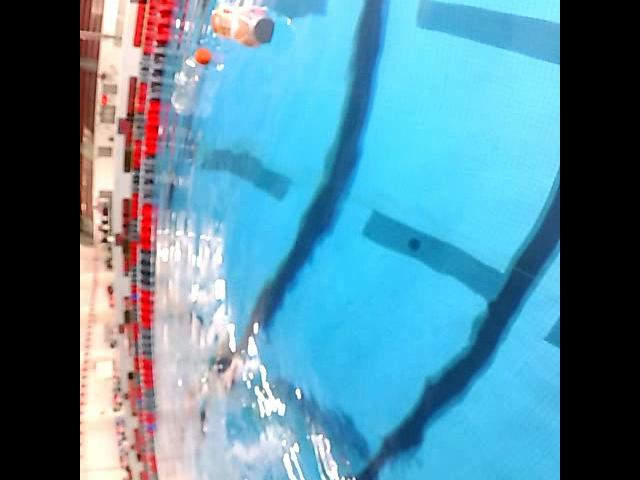Bottle: (164, 44, 220, 118), (205, 0, 278, 53)
